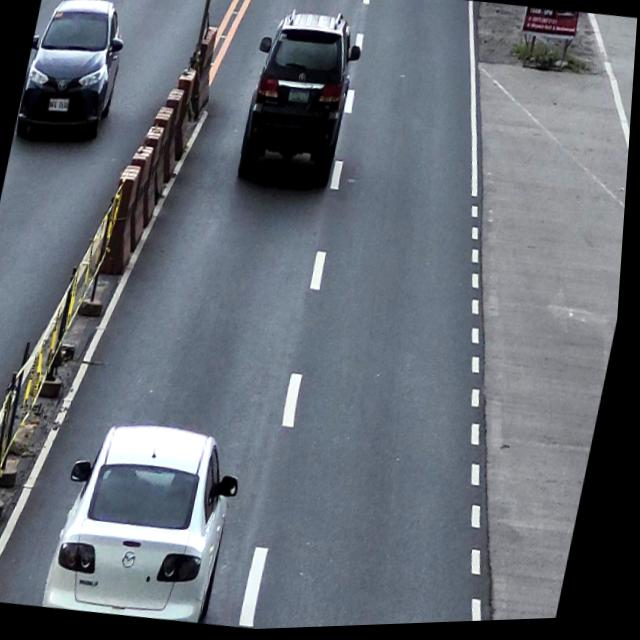Car: (49, 410, 259, 631), (229, 3, 372, 206), (14, 0, 138, 151)
License-Plate: (288, 87, 313, 107), (48, 97, 72, 115)
